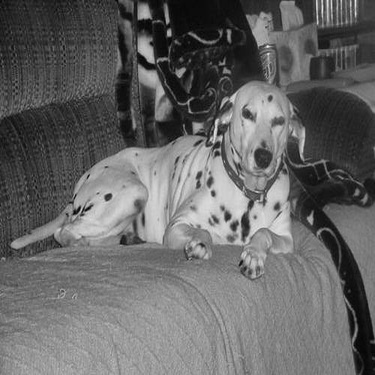dog: (7, 74, 311, 281)
